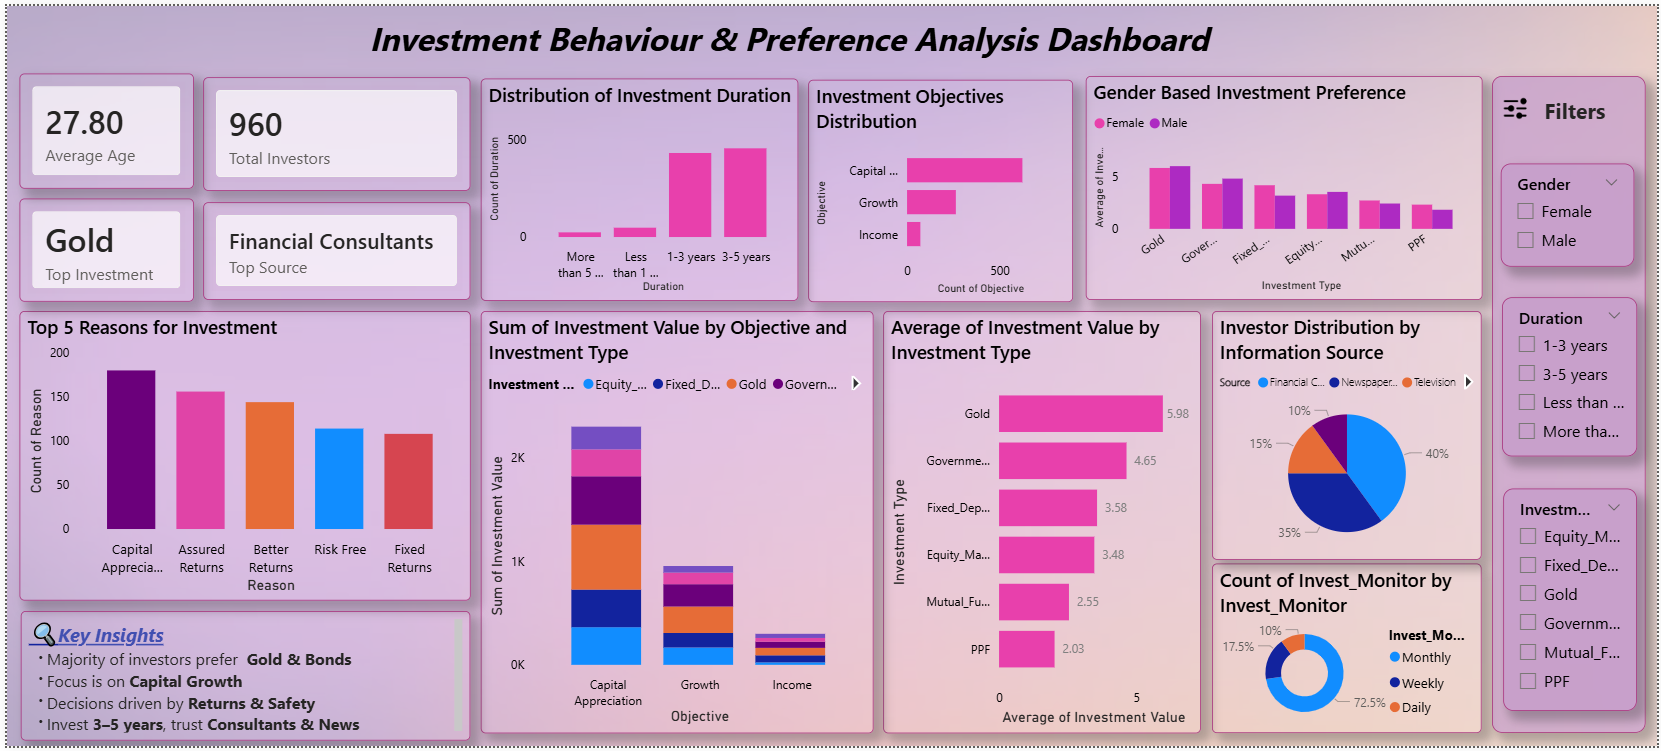

The dashboard page shown, as its layout file describes it:
{"tool":"powerbi","page":{"name":"Page 1","canvas":[1650,740],"ordinal":0},"visuals":[{"type":"cardVisual","fields":{"Data":["Data_set 2.Average Age"]},"box":[11.9,67.5,174.7,115.1],"z":1000},{"type":"barChart","title":"Investment Objectives Distribution","fields":{"Category":["Data_set 2 (2).Objective"],"Y":["CountNonNull(Data_set 2 (2).Objective)"]},"box":[800.7,74.1,264.7,222.3],"z":2000},{"type":"clusteredColumnChart","title":"Distribution of Investment Duration","fields":{"Category":["Data_set 2 (2).Duration"],"Y":["CountNonNull(Data_set 2.Duration)"]},"box":[473.8,72.8,317.6,222.3],"z":3000},{"type":"columnChart","title":"Top 5 Reasons for Investment","fields":{"Category":["Data_set 2.Reason"],"Y":["CountNonNull(Data_set 2.Reason)"]},"box":[11.9,304.4,451.3,289.8],"z":4000},{"type":"textbox","box":[246.8,8.7,865.5,60.8],"z":5000},{"type":"barChart","fields":{"Category":["Data_set 2.Investment Type"],"Y":["Avg(Data_set 2.Investment Value)"]},"box":[876.1,304.4,317.6,422.2],"z":7000},{"type":"clusteredColumnChart","title":"Gender Based Investment Preference","fields":{"Category":["Data_set 2.Investment Type"],"Y":["Avg(Data_set 2.Investment Value)"],"Series":["Data_set 2.gender"]},"box":[1078.6,70.1,397,223.7],"z":9000},{"type":"columnChart","fields":{"Category":["Data_set 2.Objective"],"Series":["Data_set 2.Investment Type"],"Y":["Sum(Data_set 2.Investment Value)"]},"box":[473.8,304.4,393,422.2],"z":10000},{"type":"donutChart","fields":{"Category":["Data_set 2.Invest_Monitor"],"Y":["CountNonNull(Data_set 2.Invest_Monitor)"]},"box":[1205.6,557.1,270,169.4],"z":11000},{"type":"pieChart","title":"Investor Distribution by Information Source","fields":{"Category":["Data_set 2.Source"],"Y":["CountNonNull(Data_set 2.Source)"]},"box":[1205.6,304.4,270,248.8],"z":12000},{"type":"cardVisual","fields":{"Data":["Data_set 2.Total Investors"]},"box":[195.9,71.5,267.3,113.8],"z":13000},{"type":"cardVisual","fields":{"Data":["Data_set 2.Top Investment"]},"box":[11.9,191.9,174.7,103.2],"z":15000},{"type":"cardVisual","fields":{"Data":["Data_set 2.Top Source"]},"box":[195.9,195.9,267.3,97.9],"z":16000},{"type":"textbox","box":[13.2,604.8,450,129.7],"z":17000},{"type":"shape","box":[1484.8,70.1,153.5,656.4],"z":19001},{"type":"slicer","fields":{"Values":["Data_set 2 (2).Duration"]},"box":[1495.4,291.1,135,158.8],"z":19002},{"type":"slicer","fields":{"Values":["Data_set 2.Investment Type"]},"box":[1496.8,483,133.7,222.3],"z":19003},{"type":"slicer","fields":{"Values":["Data_set 2 (2).gender"]},"box":[1494.1,157.5,133.7,103.2],"z":19004},{"type":"image","box":[1495.4,90,26.5,25.1],"z":19005},{"type":"textbox","box":[1532.5,84.7,80.7,43.7],"z":19006}]}

Visuals, with their boxes in screenshot pixels (x1, y1, x2, y2), scaled from the page's 1650x740 canvas onto the 1661x751 screenshot:
cardVisual - Data_set 2.Average Age: rect(12, 69, 188, 185)
"Investment Objectives Distribution" barChart: rect(806, 75, 1073, 301)
"Distribution of Investment Duration" clusteredColumnChart: rect(477, 74, 797, 299)
"Top 5 Reasons for Investment" columnChart: rect(12, 309, 466, 603)
textbox: rect(248, 9, 1120, 71)
barChart - Data_set 2.Investment Type x Avg(Data_set 2.Investment Value): rect(882, 309, 1202, 737)
"Gender Based Investment Preference" clusteredColumnChart: rect(1086, 71, 1485, 298)
columnChart - Data_set 2.Objective x Data_set 2.Investment Type: rect(477, 309, 873, 737)
donutChart - Data_set 2.Invest_Monitor x CountNonNull(Data_set 2.Invest_Monitor): rect(1214, 565, 1485, 737)
"Investor Distribution by Information Source" pieChart: rect(1214, 309, 1485, 561)
cardVisual - Data_set 2.Total Investors: rect(197, 73, 466, 188)
cardVisual - Data_set 2.Top Investment: rect(12, 195, 188, 299)
cardVisual - Data_set 2.Top Source: rect(197, 199, 466, 298)
textbox: rect(13, 614, 466, 745)
shape: rect(1495, 71, 1649, 737)
slicer - Data_set 2 (2).Duration: rect(1505, 295, 1641, 457)
slicer - Data_set 2.Investment Type: rect(1507, 490, 1641, 716)
slicer - Data_set 2 (2).gender: rect(1504, 160, 1639, 265)
image: rect(1505, 91, 1532, 117)
textbox: rect(1543, 86, 1624, 130)
